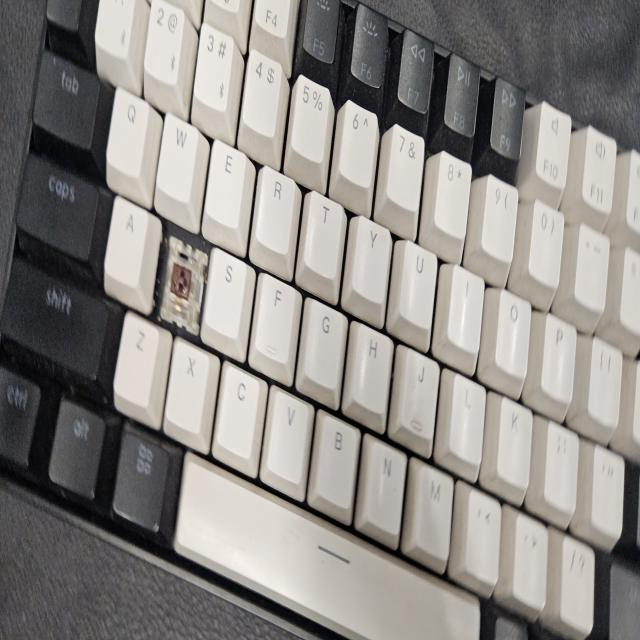C: (163, 253, 193, 320)
